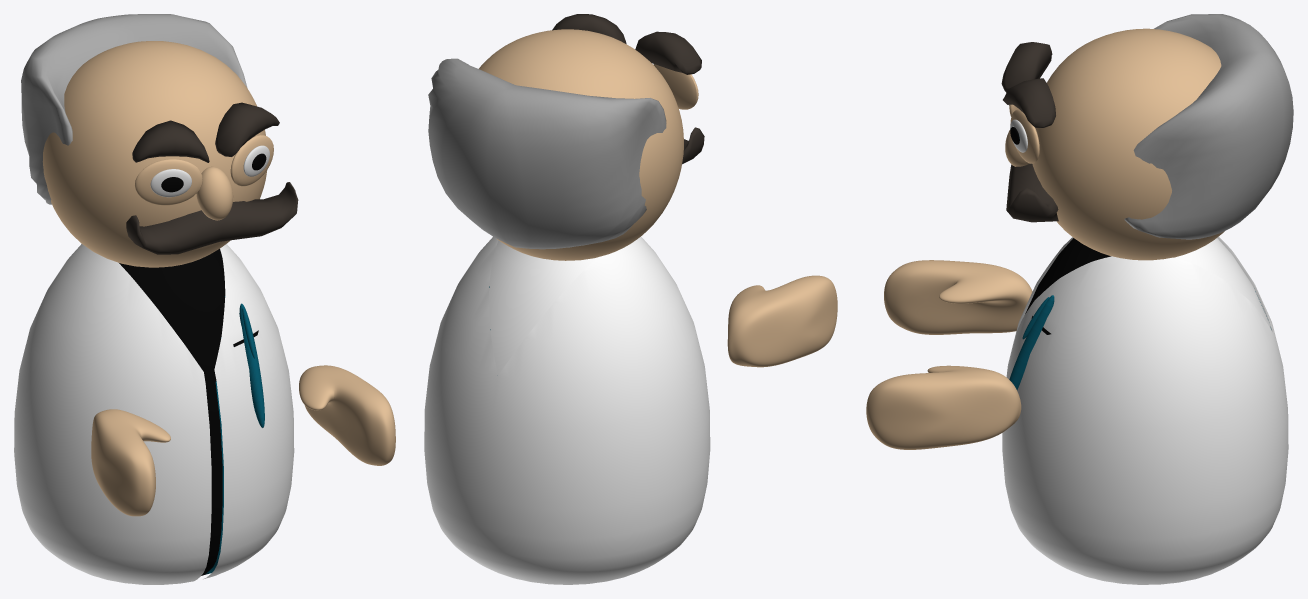
The model's file is BIOSPLASH_PLAYER(1).fbx.
The picture shows the model from 3 angles, left to right: view 1: azimuth 30°, elevation 25°; view 2: azimuth 150°, elevation 25°; view 3: azimuth 270°, elevation 25°; orthographic projection. The views are drawn at different scales.
Visible parts, largest first — view 1: Sphere; view 2: Sphere; view 3: Sphere.
Boxes of the visible parts, left/top/right/bottom form: Sphere: left=14, top=14, right=395, bottom=584; Sphere: left=424, top=14, right=837, bottom=584; Sphere: left=866, top=14, right=1293, bottom=584.
Bounding box in the file's own units: 1.57 × 2.75 × 2.12.
